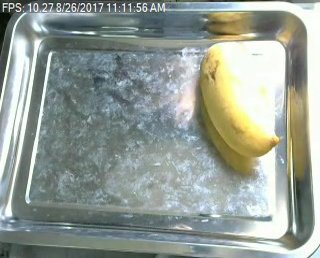Mango: (195, 43, 281, 162)
